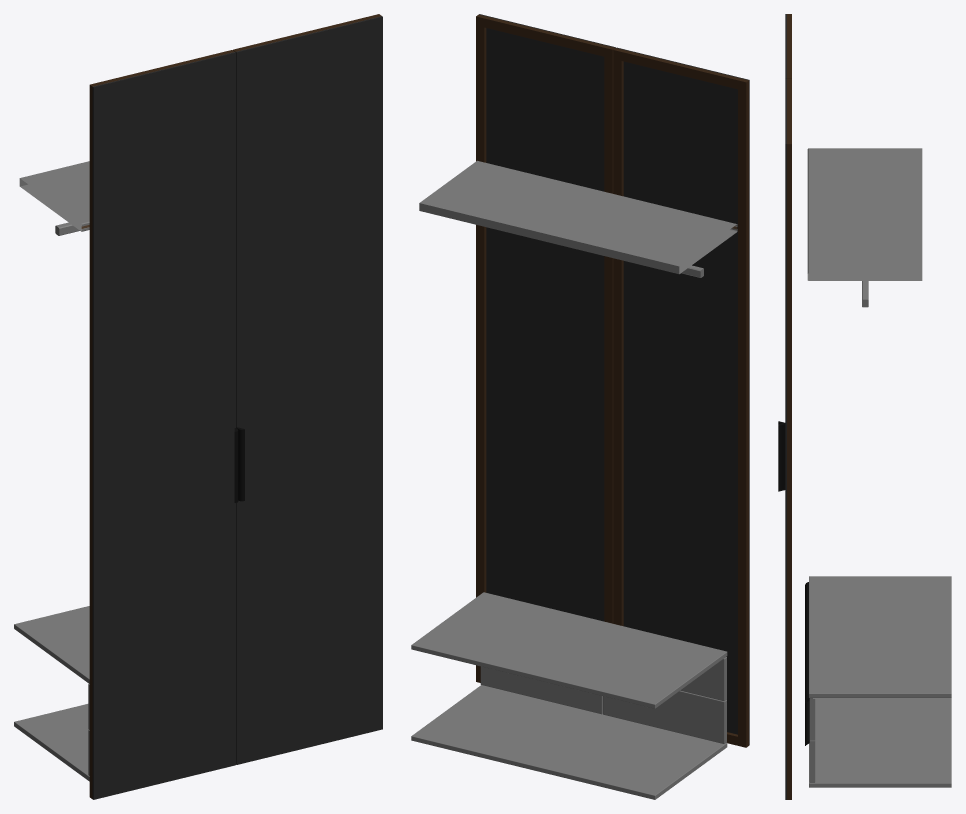
The picture shows the model from 3 angles, left to right: view 1: azimuth 30°, elevation 25°; view 2: azimuth 150°, elevation 25°; view 3: azimuth 270°, elevation 25°; orthographic projection. The views are drawn at different scales.
Parts seen in each view (by area): view 1: showroom_01; view 2: showroom_01; view 3: showroom_01.
Boxes of the visible parts, x1,y1,x2,y2 form: showroom_01: (14, 14, 382, 799); showroom_01: (411, 14, 749, 799); showroom_01: (778, 14, 951, 799).
Bounding box in the file's own units: 1.11 × 2.61 × 0.6253.
